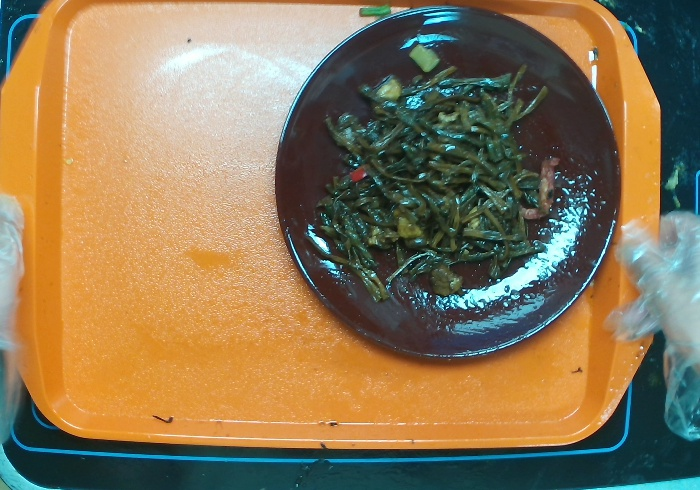HZYJPL-Ka_Fei_Yuan_Pan: (271, 1, 623, 362)
